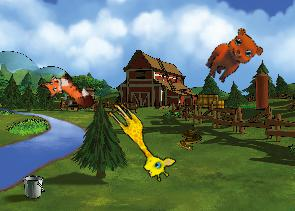bear: (200, 22, 267, 93)
fox: (36, 63, 97, 124)
giraffe: (97, 98, 180, 185)
